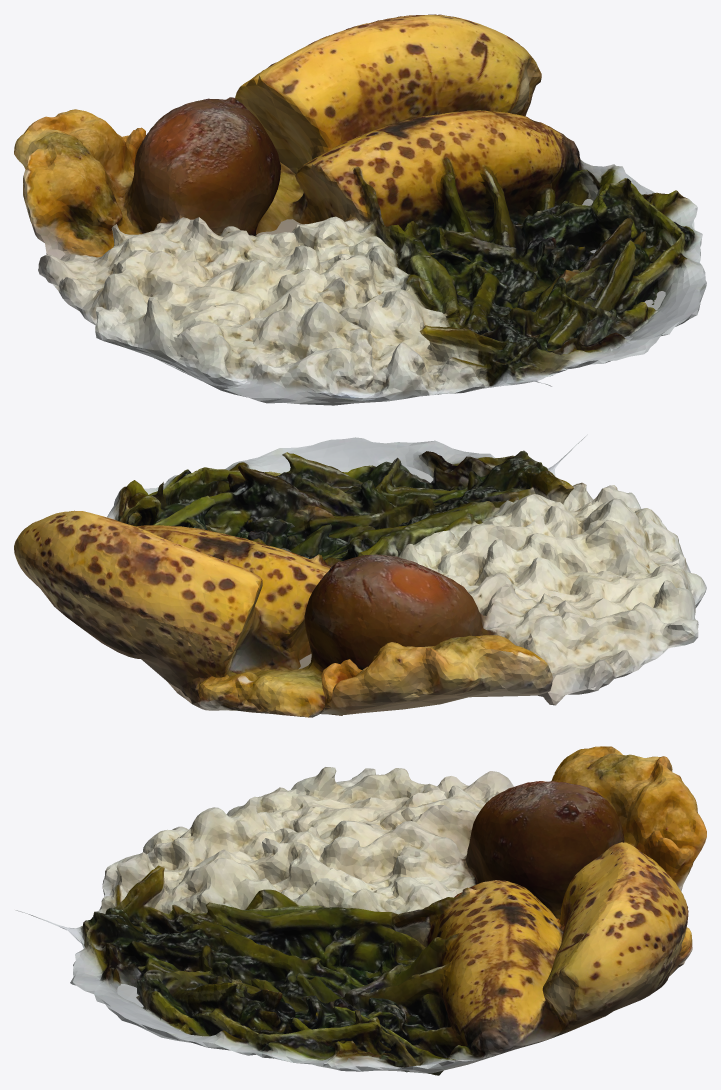
File: menu_1.fbx
3 renders of one model, top to bottom at view 1: azimuth 30°, elevation 25°; view 2: azimuth 150°, elevation 25°; view 3: azimuth 270°, elevation 25°, orthographic. The views are drawn at different scales.
Bounding box in the file's own units: 0.7167 × 0.181 × 0.7499.
Materials: 1 (1 with a texture image).
